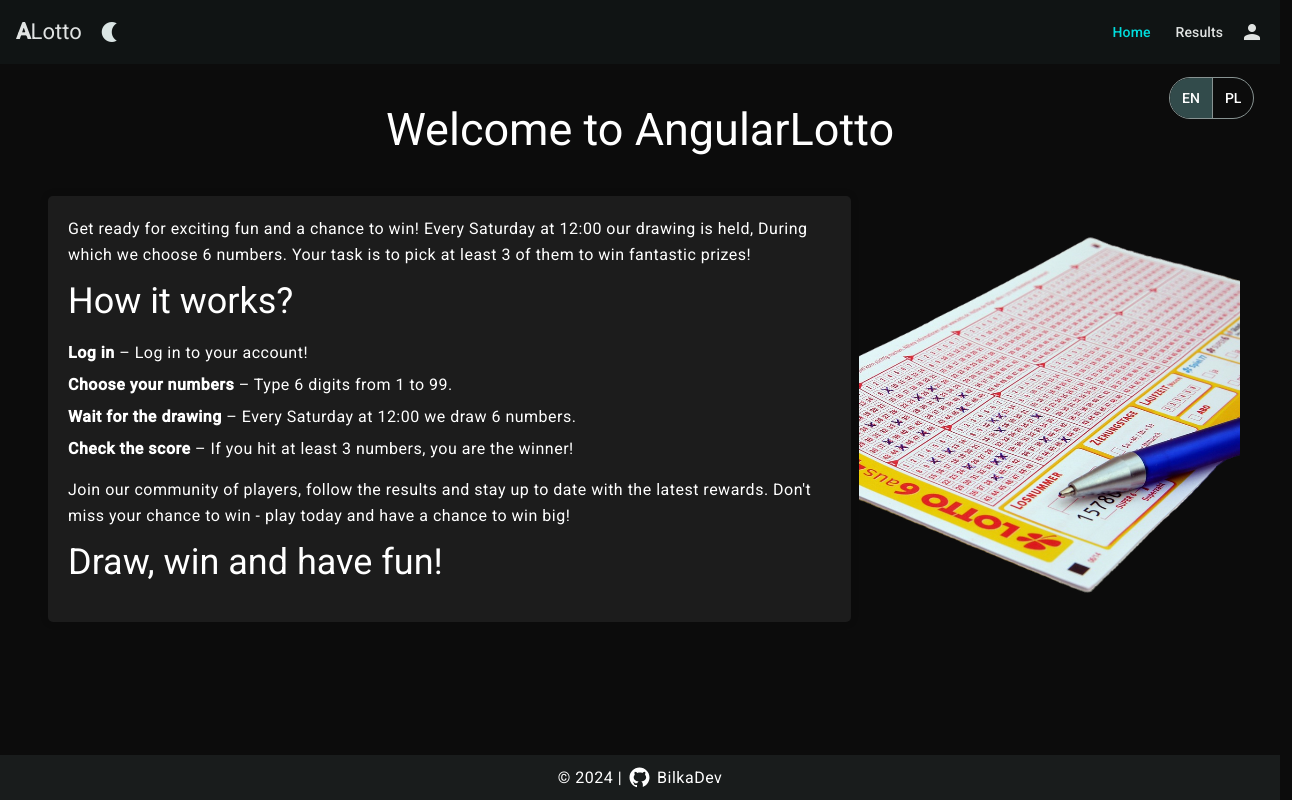
Test: Home Page › should change language to polish
Click the radio button labelled "PL" at {"x": 1234, "y": 98}, box x1=1213 y1=78 x2=1254 y2=118
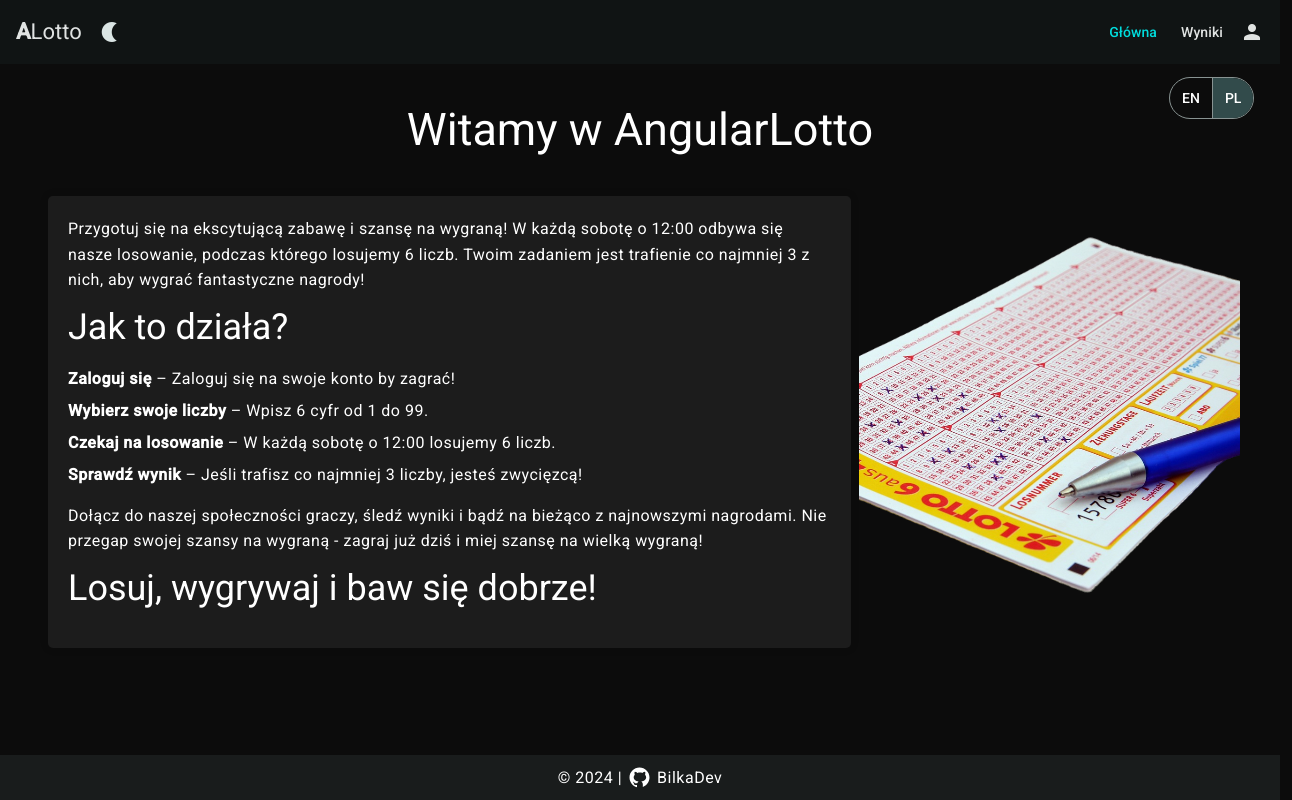
expect the heading "Witamy w AngularLotto" is shown: met, box x1=407 y1=103 x2=873 y2=156
